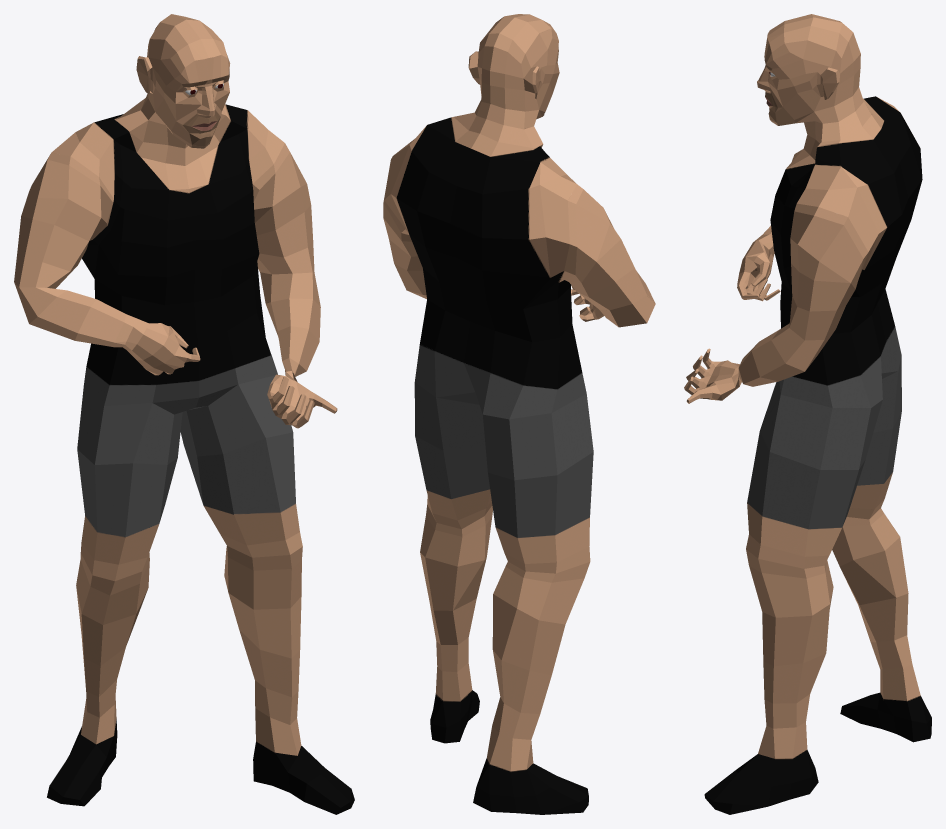
File: PlayerIdle(25).obj
3 renders of one model, left to right at view 1: azimuth 30°, elevation 25°; view 2: azimuth 150°, elevation 25°; view 3: azimuth 270°, elevation 25°, orthographic. The views are drawn at different scales.
Parts seen in each view (by area): view 1: Plane002; view 2: Plane002; view 3: Plane002.
Part boxes in pixels (left/top/right/bottom): Plane002: left=14, top=14, right=354, bottom=814; Plane002: left=383, top=14, right=655, bottom=814; Plane002: left=684, top=14, right=931, bottom=814.
Bounding box in the file's own units: 676 × 1809 × 549.
